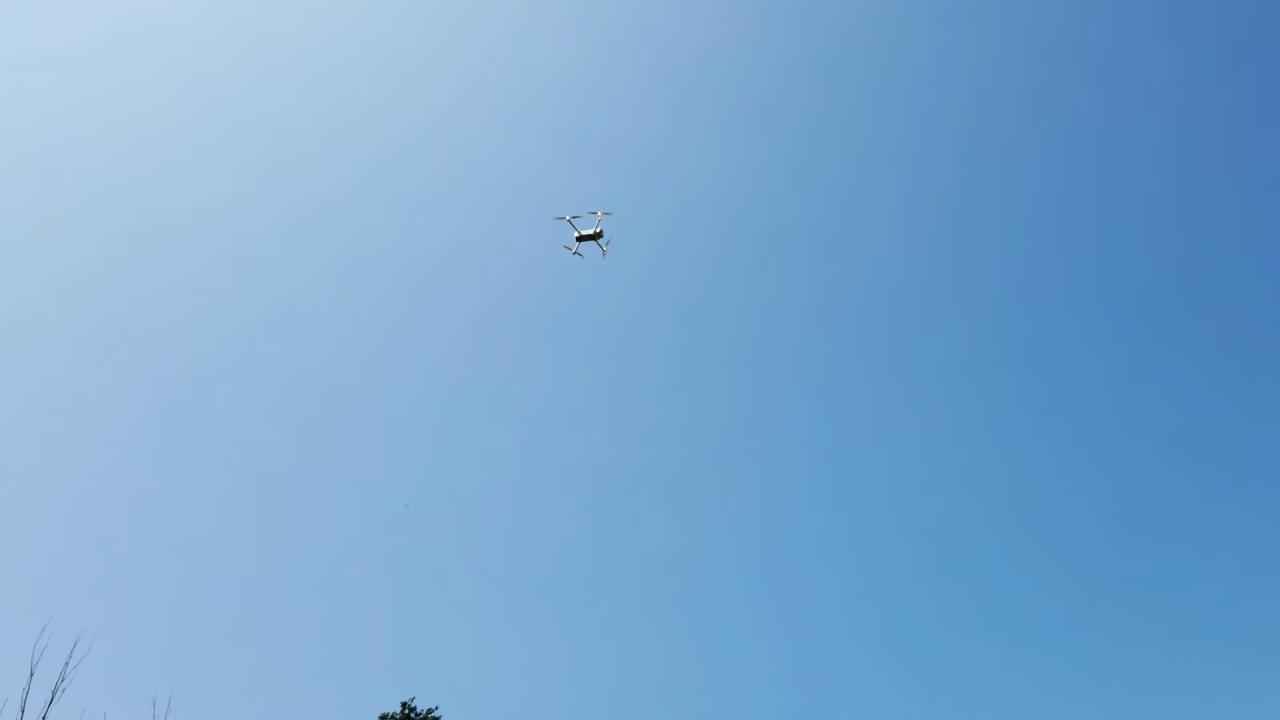Drone: (548, 203, 625, 266)
